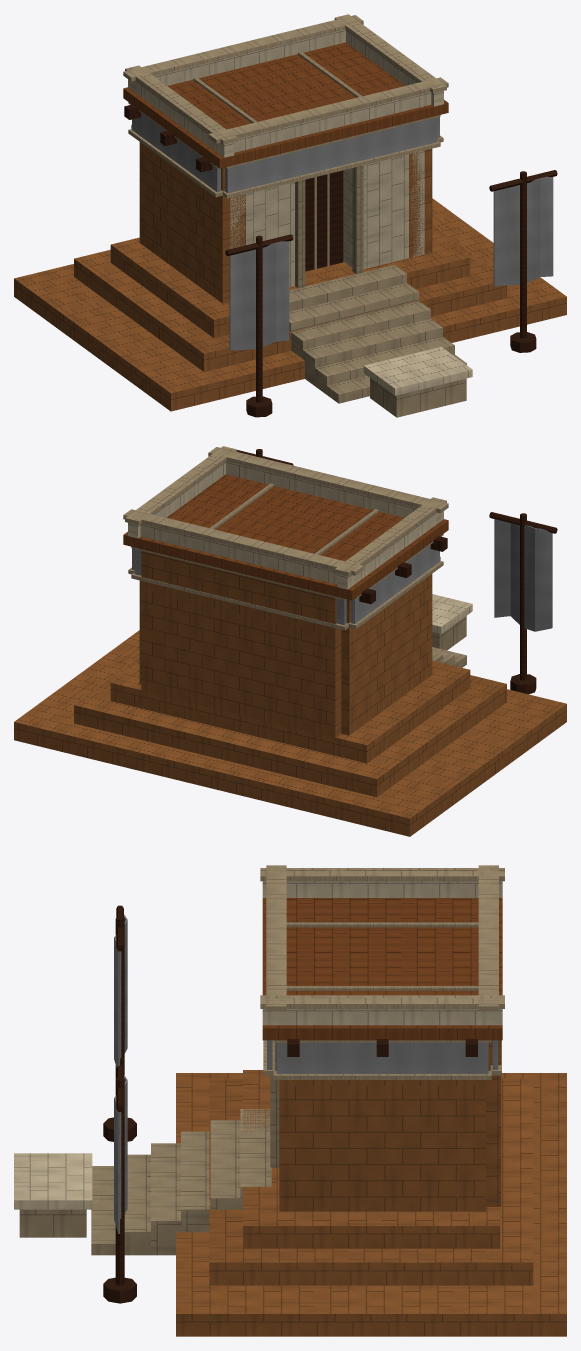
File: shrine.glb
3 renders of one model, top to bottom at view 1: azimuth 30°, elevation 25°; view 2: azimuth 150°, elevation 25°; view 3: azimuth 270°, elevation 25°, orthographic. The views are drawn at different scales.
Visible parts, largest first — view 1: LOD0; view 2: LOD0; view 3: LOD0.
Boxes of the visible parts, box(x1,y1,x2,y2) form: LOD0: box(14, 14, 566, 417); LOD0: box(14, 446, 566, 836); LOD0: box(14, 865, 566, 1336).
Size of what is drawn, in the model's own units: 1.02 by 0.554 by 0.99.
Materials: 2 (2 with a texture image).
